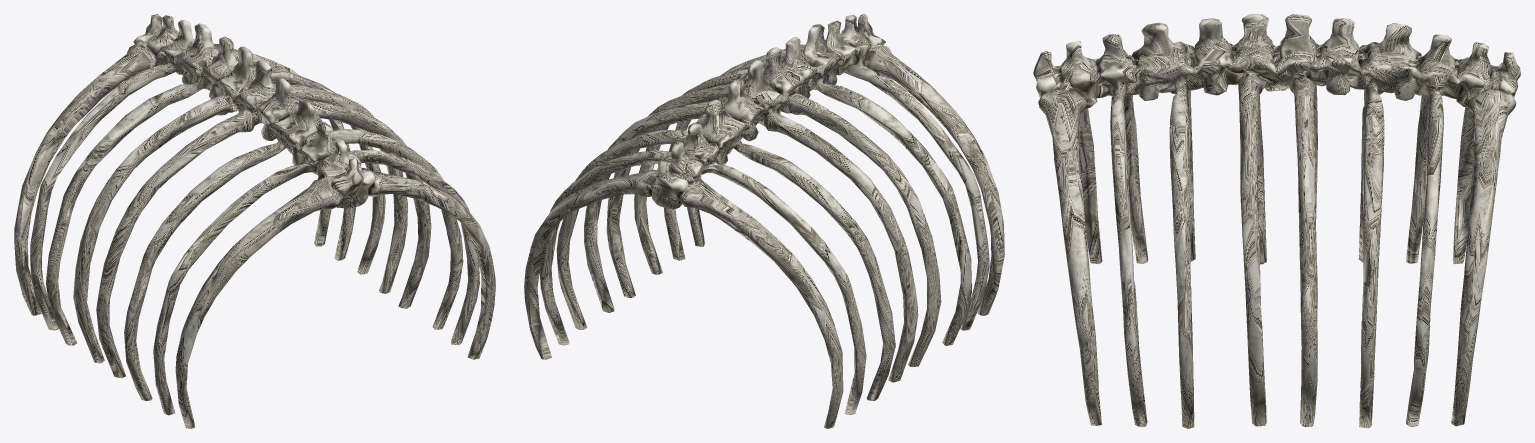
The model's file is sv_ribcage_lo.glb.
3 renders of one model, left to right at view 1: azimuth 30°, elevation 25°; view 2: azimuth 150°, elevation 25°; view 3: azimuth 270°, elevation 25°, orthographic. The views are drawn at different scales.
Bounding box in the file's own units: 1.78 × 1.41 × 1.9.
1 material, 1 textured.
